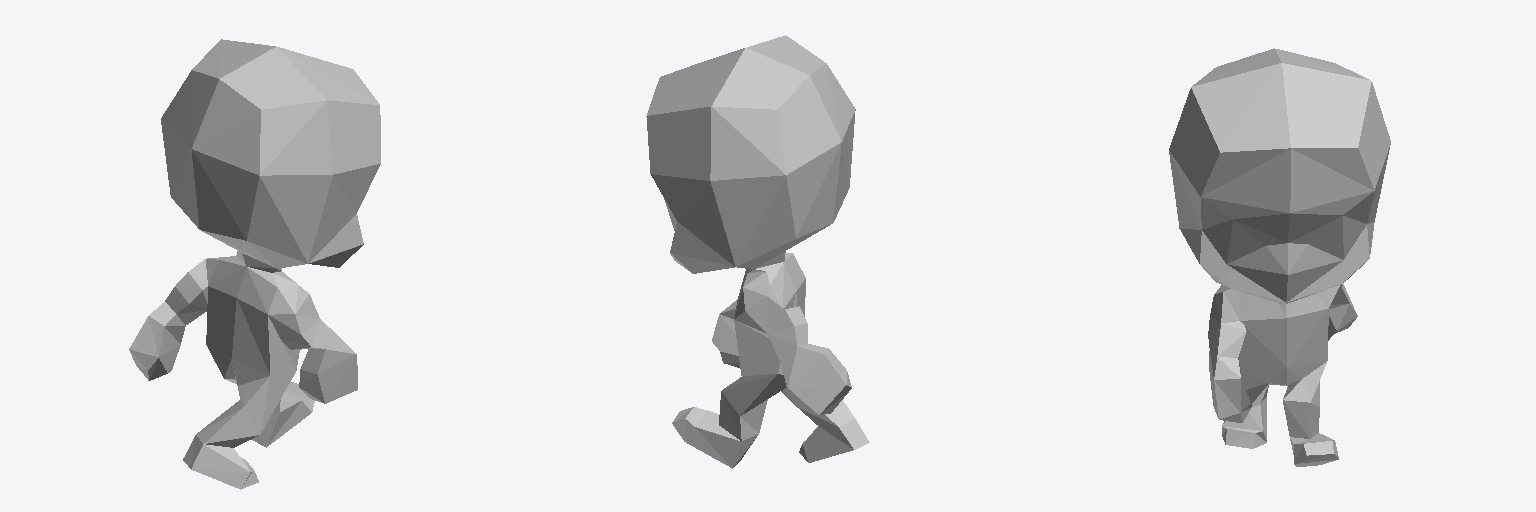
File: male_anim_blender2.obj
3 views of the same model, side by side, from view 1: azimuth 30°, elevation 25°; view 2: azimuth 150°, elevation 25°; view 3: azimuth 270°, elevation 25° (orthographic).
Parts seen in each view (by area): view 1: male_anim_milkshape.ms3d.mo_male_anim_milkshape.ms3d.m.003; view 2: male_anim_milkshape.ms3d.mo_male_anim_milkshape.ms3d.m.003; view 3: male_anim_milkshape.ms3d.mo_male_anim_milkshape.ms3d.m.003.
Part boxes in pixels (x1,y1,x2,y2): male_anim_milkshape.ms3d.mo_male_anim_milkshape.ms3d.m.003: (129, 39, 380, 489); male_anim_milkshape.ms3d.mo_male_anim_milkshape.ms3d.m.003: (646, 35, 869, 468); male_anim_milkshape.ms3d.mo_male_anim_milkshape.ms3d.m.003: (1169, 48, 1390, 466).
Bounding box in the file's own units: 0.7578 × 1.43 × 0.71.